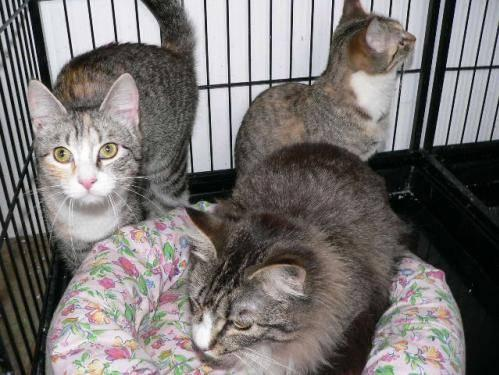cat: (188, 0, 415, 374), (29, 37, 194, 268)
